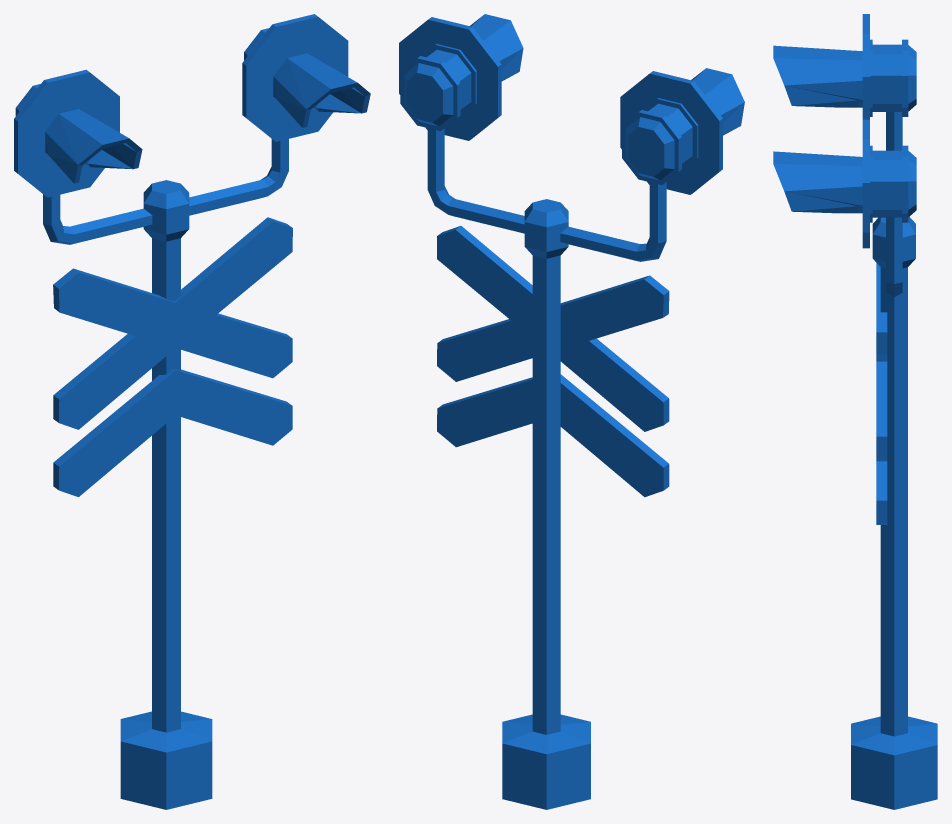
File: SM_traffic_light_3.fbx
3 renders of one model, left to right at view 1: azimuth 30°, elevation 25°; view 2: azimuth 150°, elevation 25°; view 3: azimuth 270°, elevation 25°, orthographic. The views are drawn at different scales.
Parts seen in each view (by area): view 1: Cylinder; view 2: Cylinder; view 3: Cylinder.
Boxes of the visible parts, x1,y1,x2,y2 form: Cylinder: (14, 14, 370, 809); Cylinder: (399, 14, 744, 809); Cylinder: (773, 14, 937, 809).
Size of the model in its own units: 102 by 222 by 46.54.
